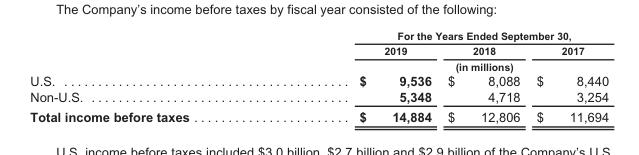table: (29, 29, 608, 124)
table column: (29, 29, 273, 124), (273, 29, 438, 124), (438, 29, 527, 124), (527, 29, 608, 124)
table column header: (29, 29, 608, 72)
table row: (29, 88, 608, 106), (29, 106, 608, 124), (29, 42, 608, 58), (29, 72, 608, 88), (29, 58, 608, 72), (29, 29, 608, 42)
table spanning cell: (273, 58, 608, 72), (273, 29, 608, 42)
